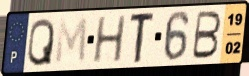6: (163, 9, 191, 63)
B: (190, 10, 223, 61)
H: (91, 14, 127, 65)
M: (54, 15, 89, 67)
Q: (25, 17, 56, 68)
T: (128, 10, 157, 66)
